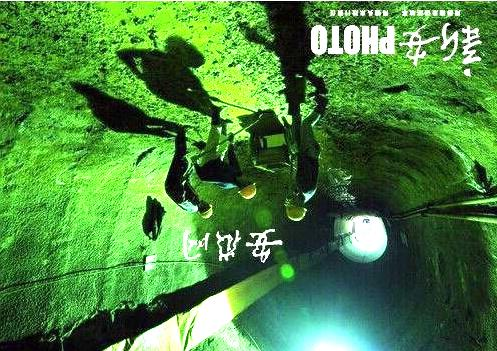helmet: (284, 192, 308, 221), (237, 177, 257, 200), (196, 200, 213, 219)
